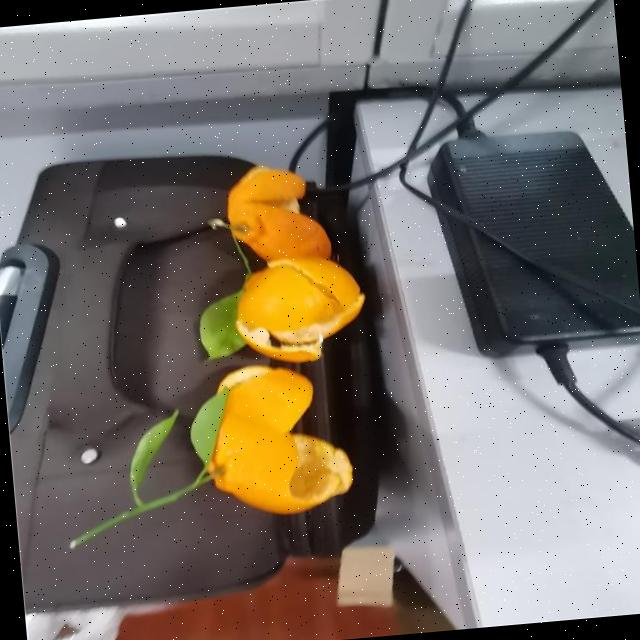orange-peel: (174, 155, 383, 522)
